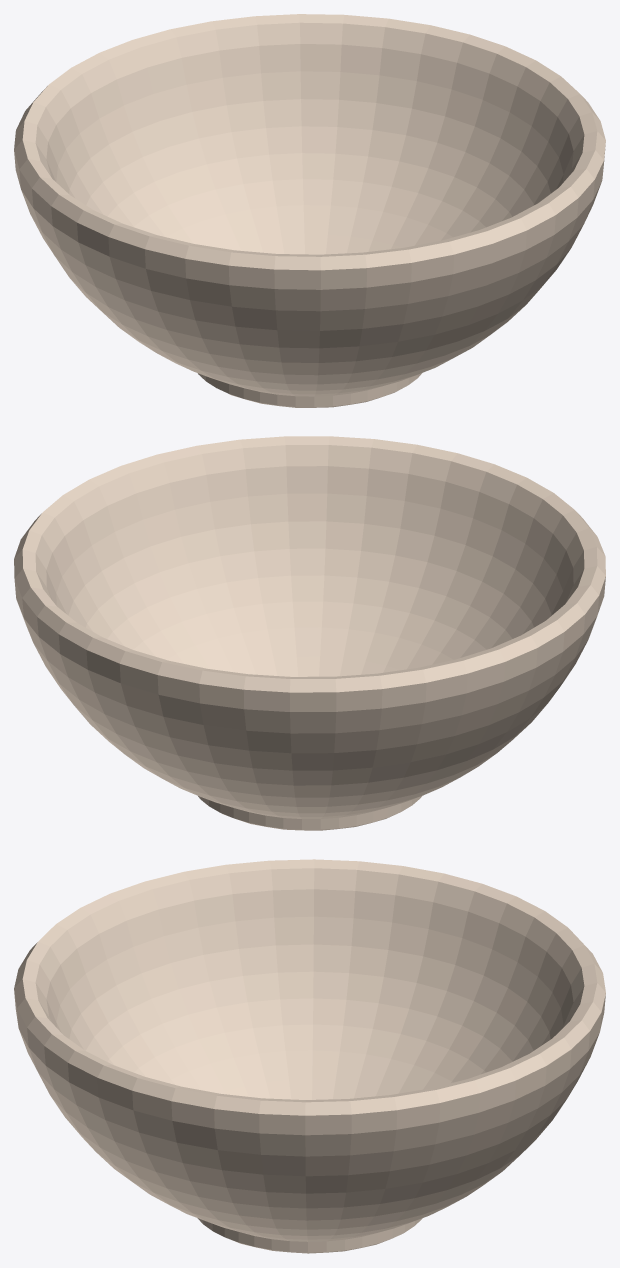
Rendered from cuenco.fbx.
3 renders of one model, top to bottom at view 1: azimuth 30°, elevation 25°; view 2: azimuth 150°, elevation 25°; view 3: azimuth 270°, elevation 25°, orthographic.
Parts seen in each view (by area): view 1: CUENCO; view 2: CUENCO; view 3: CUENCO.
Boxes of the visible parts, left/top/right/bottom form: CUENCO: left=14, top=14, right=605, bottom=407; CUENCO: left=14, top=436, right=605, bottom=830; CUENCO: left=14, top=859, right=605, bottom=1253.
Size of the model in its own units: 104 by 43.65 by 104.
